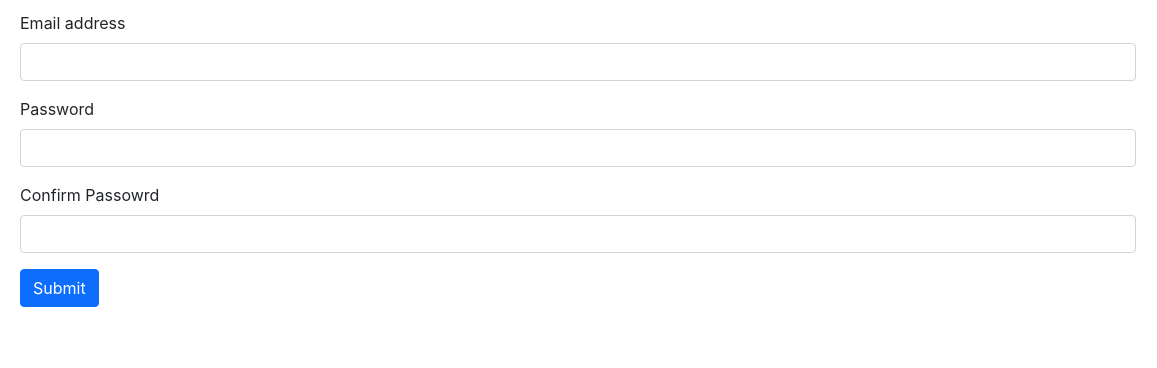
Test case: APP component tests › should show passord error if password is less then 5 characters
Type "selena@gmail.com" into the field labelled "Email address" at (578, 62), box [20,43,1136,81]
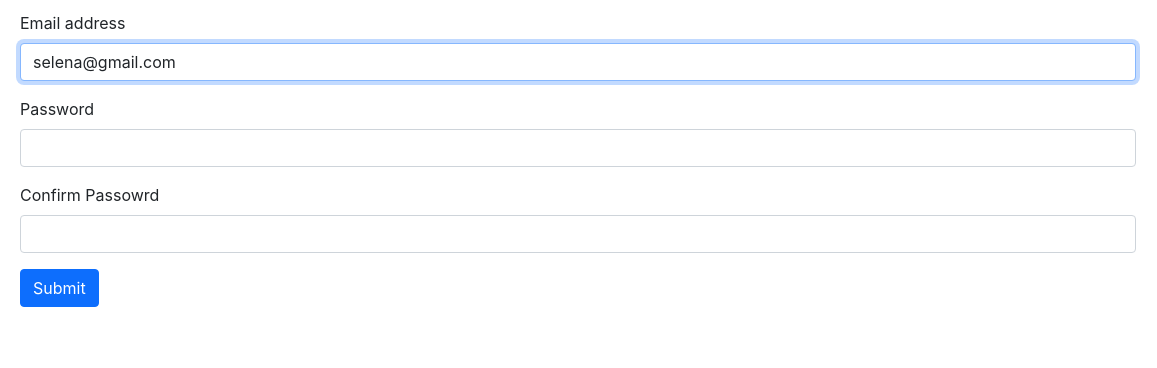
Check: the text "the password you enter should contain 5 or more characters" is not shown
Type "123" into the password field labelled "Password" at (578, 148), box [20,129,1136,167]
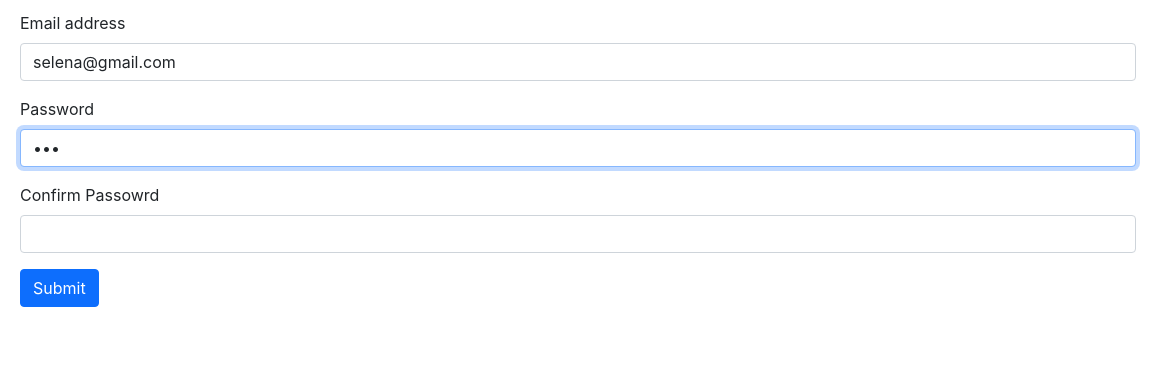
Click the button "Submit" at (59, 288), box [20,269,99,307]
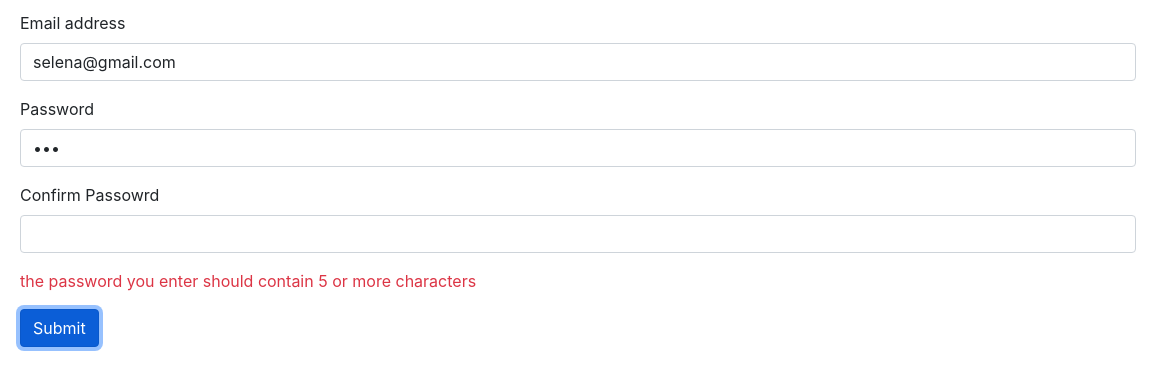
Check: the text "the password you enter should contain 5 or more characters" is shown, box [20,271,476,291]
